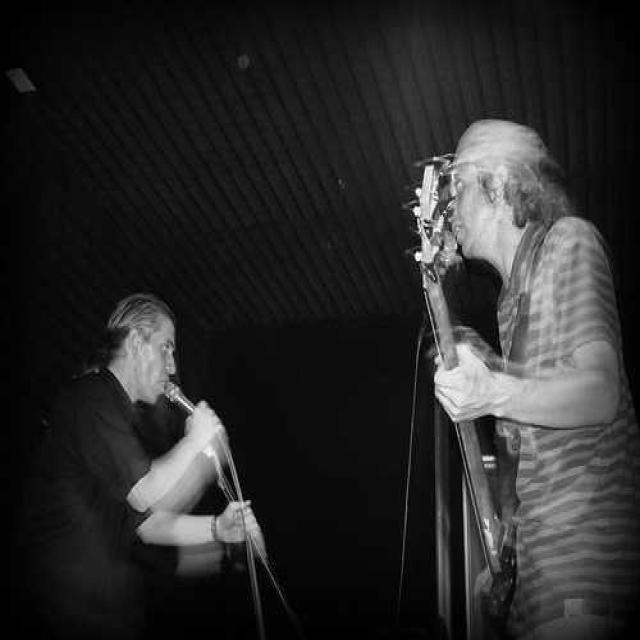microphone: (165, 387, 232, 472)
